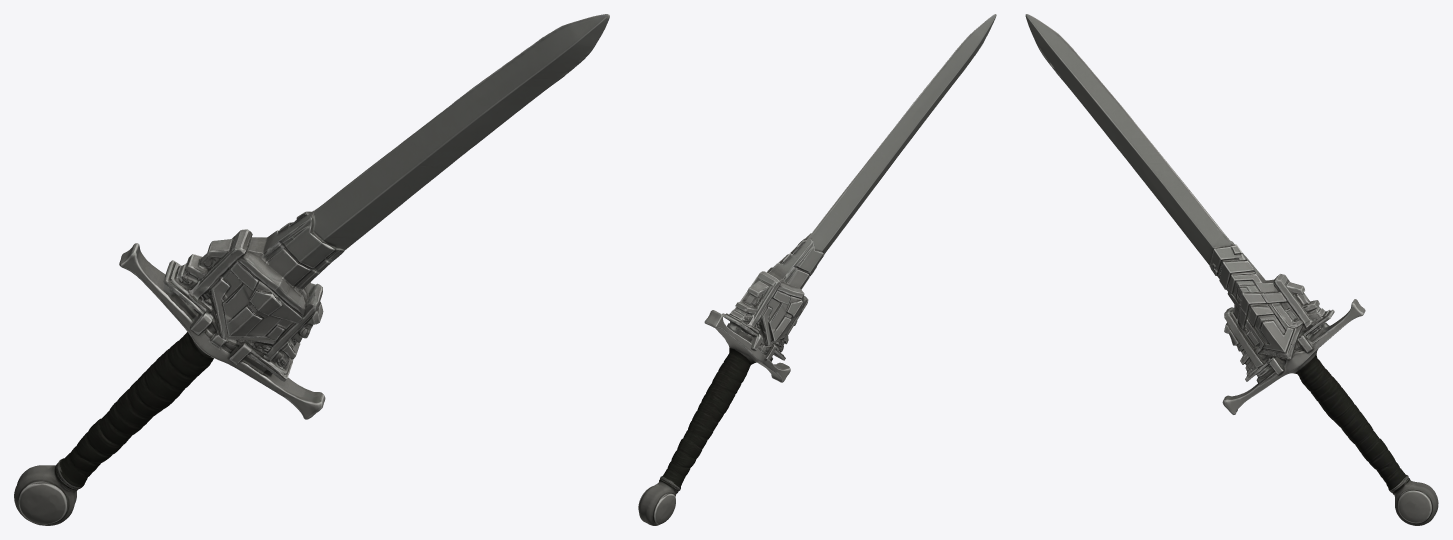
Rendered from 1h_sword_03.glb.
The picture shows the model from 3 angles, left to right: view 1: azimuth 90°, elevation 25°; view 2: azimuth 150°, elevation 25°; view 3: azimuth 270°, elevation 25°; orthographic projection. The views are drawn at different scales.
Parts seen in each view (by area): view 1: tripo_node_934298b9-1f9a-487b-bf87-df12e42897d7; view 2: tripo_node_934298b9-1f9a-487b-bf87-df12e42897d7; view 3: tripo_node_934298b9-1f9a-487b-bf87-df12e42897d7.
Boxes of the visible parts, x1,y1,x2,y2 form: tripo_node_934298b9-1f9a-487b-bf87-df12e42897d7: (14,14,609,525); tripo_node_934298b9-1f9a-487b-bf87-df12e42897d7: (638,14,996,525); tripo_node_934298b9-1f9a-487b-bf87-df12e42897d7: (1025,14,1438,525).
Size of the model in its own units: 0.4238 by 0.9999 by 0.8673.
Materials: 1 (1 with a texture image).
